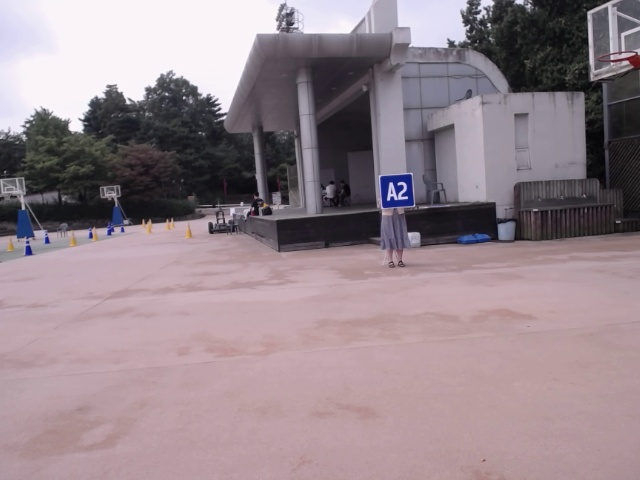delivery_a2: (379, 172, 415, 209)
